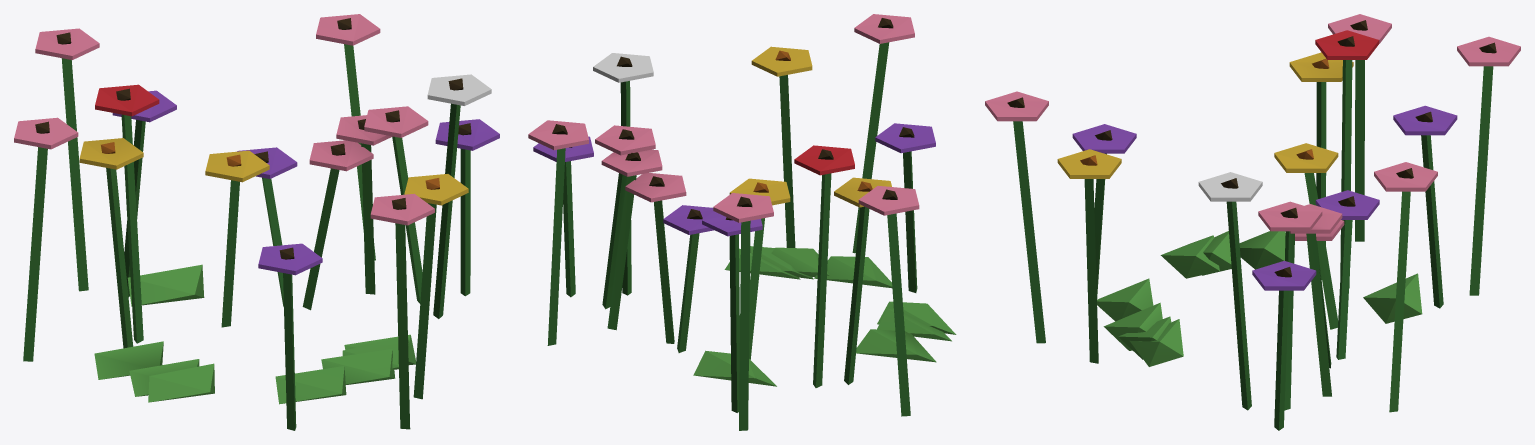
Rendered from wildflowers.glb.
3 renders of one model, left to right at view 1: azimuth 30°, elevation 25°; view 2: azimuth 150°, elevation 25°; view 3: azimuth 270°, elevation 25°, orthographic. The views are drawn at different scales.
Parts seen in each view (by area): view 1: base; view 2: base; view 3: base.
Boxes of the visible parts, bbox=[...] form: base: bbox=[14, 14, 499, 430]; base: bbox=[528, 14, 956, 430]; base: bbox=[985, 14, 1520, 430].
Size of the model in its own units: 0.4385 by 0.2433 by 0.478.
